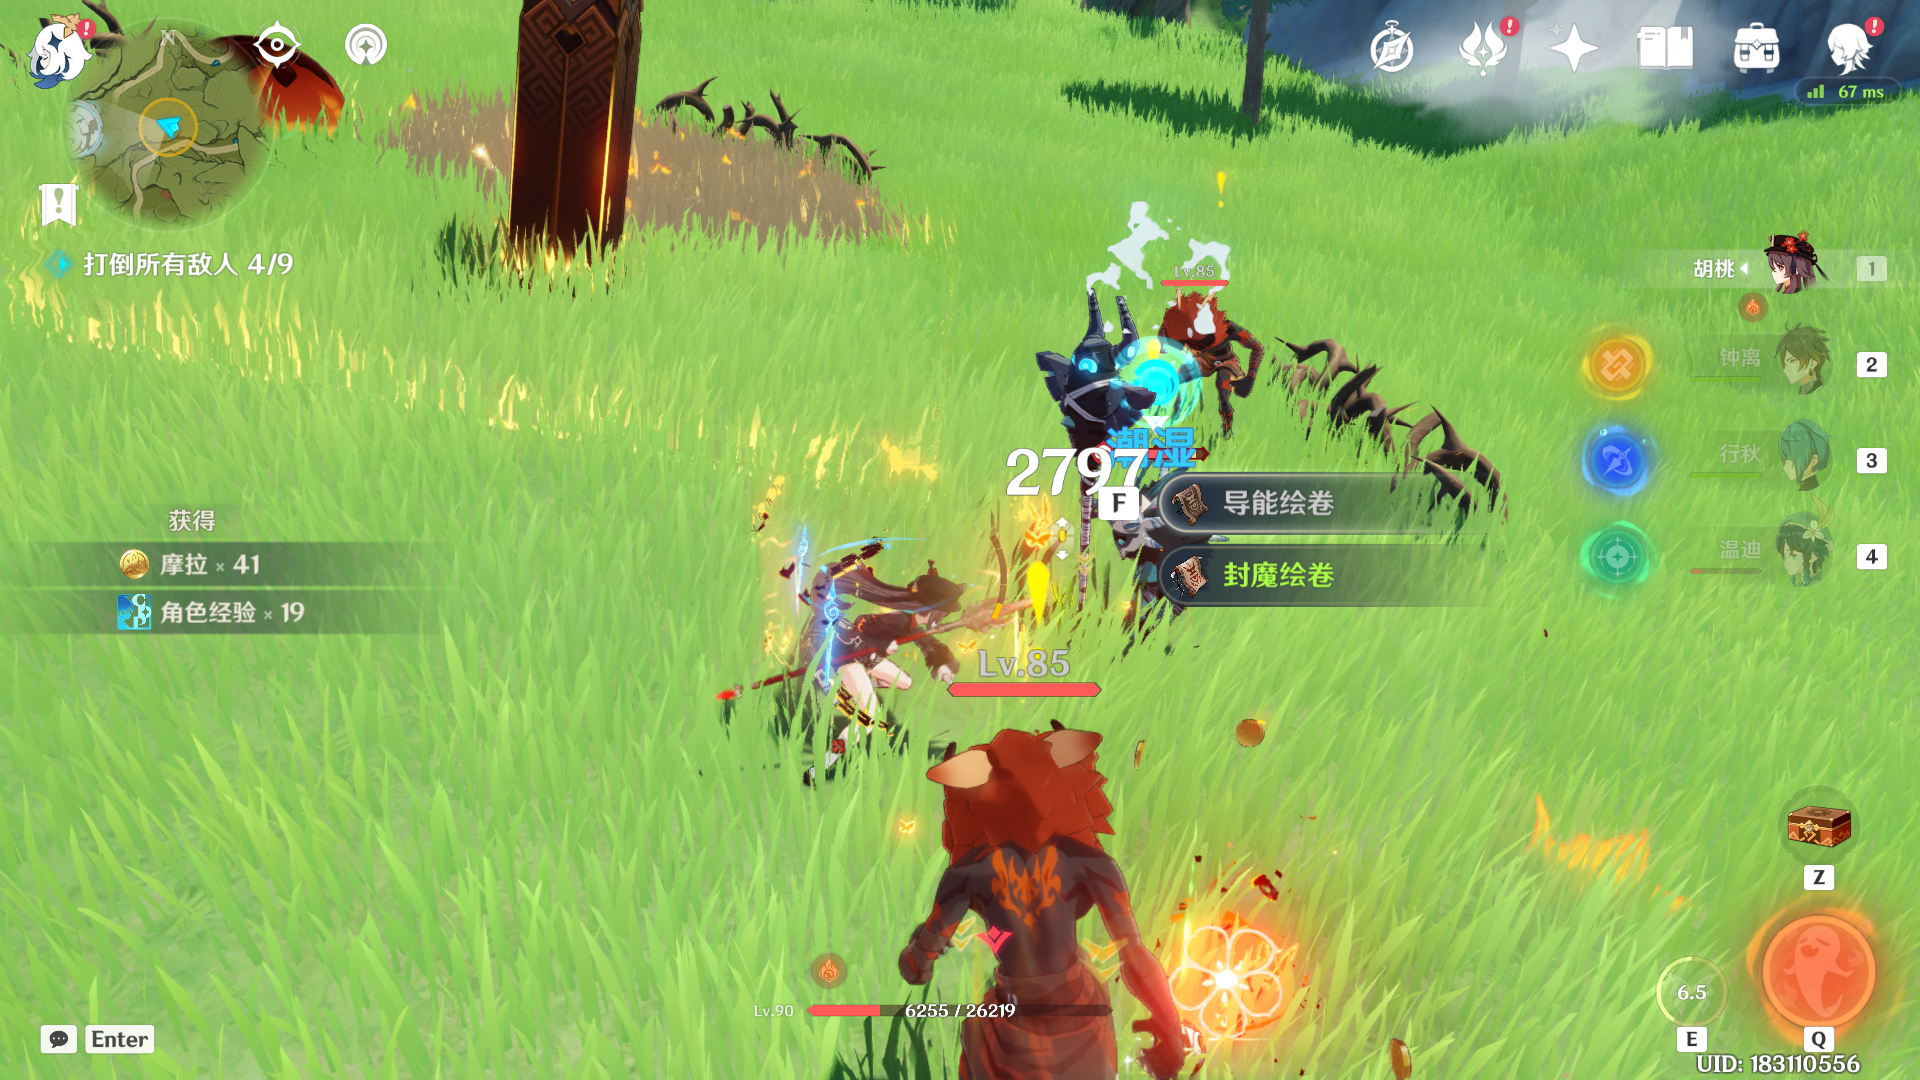character: (744, 527, 1015, 810)
hili: (884, 712, 1244, 1080), (1023, 274, 1300, 673), (1116, 276, 1286, 442)
